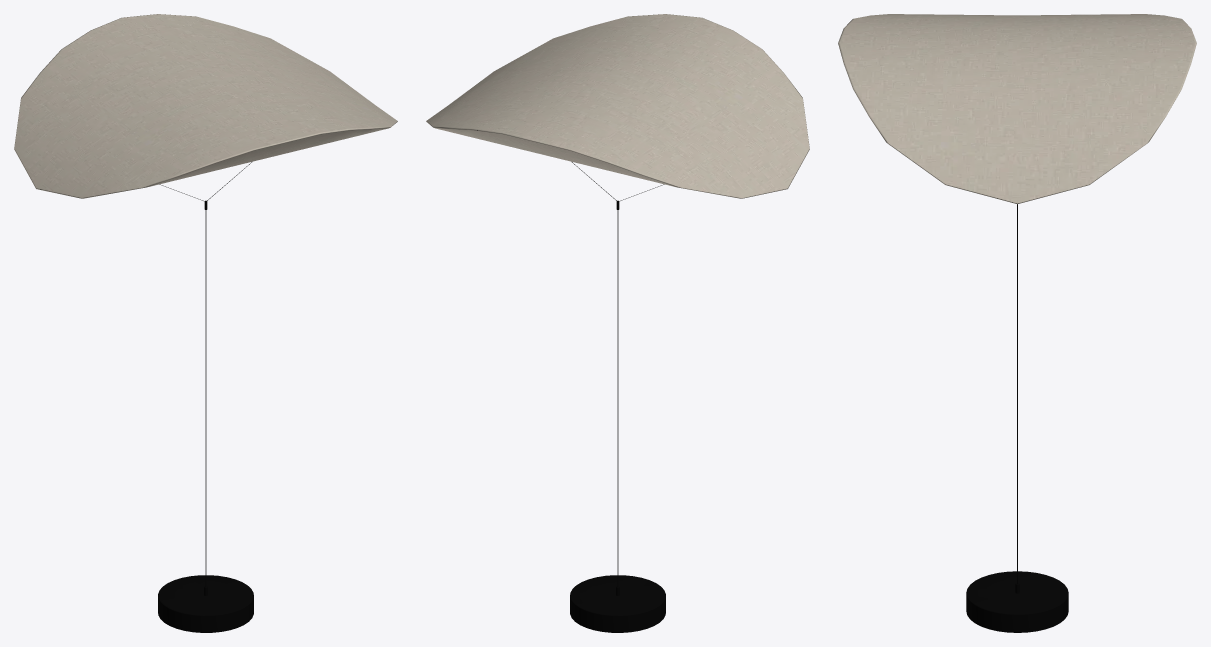
Rendered from pendant_tense.glb.
The picture shows the model from 3 angles, left to right: view 1: azimuth 30°, elevation 25°; view 2: azimuth 150°, elevation 25°; view 3: azimuth 270°, elevation 25°; orthographic projection. The views are drawn at different scales.
Visible parts, largest first — view 1: Cube.002, Cylinder, Cylinder.001; view 2: Cube.002, Cylinder, Cylinder.001; view 3: Cube.002, Cylinder.
Boxes of the visible parts, x1,y1,x2,y2 form: Cube.002: (14, 14, 397, 198); Cylinder: (158, 575, 253, 632); Cylinder.001: (204, 200, 207, 595); Cube.002: (426, 14, 809, 198); Cylinder: (570, 575, 665, 632); Cylinder.001: (616, 200, 619, 595); Cube.002: (838, 14, 1196, 204); Cylinder: (966, 571, 1068, 632).
Bounding box in the file's own units: 0.6898 × 1.04 × 0.5925.
Materials: 3 (1 with a texture image).
